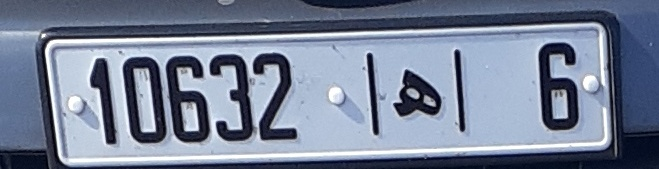0: (121, 48, 167, 148)
1: (81, 53, 121, 152)
2: (251, 46, 300, 147)
3: (208, 50, 257, 149)
6: (529, 36, 585, 135), (165, 50, 213, 148)
h: (384, 59, 447, 127)
